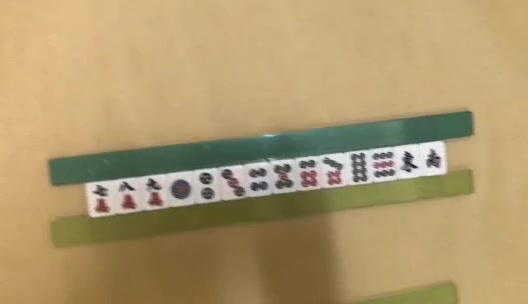1p: (171, 178, 191, 201)
1z: (402, 152, 418, 173)
2p: (199, 173, 215, 201)
2z: (427, 149, 441, 171)
3p: (222, 169, 245, 198)
4p: (249, 168, 269, 192)
5p: (273, 164, 294, 189)
6p: (300, 160, 318, 188)
7m: (93, 184, 110, 213)
7p: (323, 156, 342, 186)
8m: (119, 180, 138, 210)
8p: (351, 153, 368, 182)
9m: (146, 179, 163, 207)
9p: (373, 152, 394, 177)
